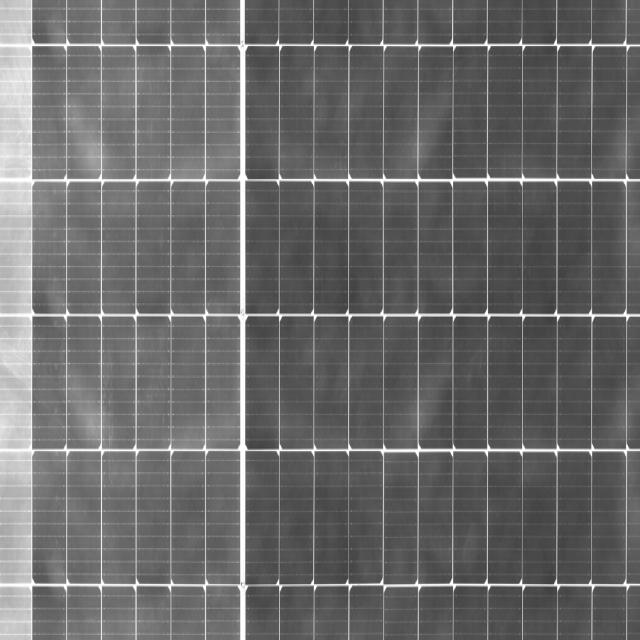CORRECT: (75, 51, 527, 640), (324, 0, 639, 636)
